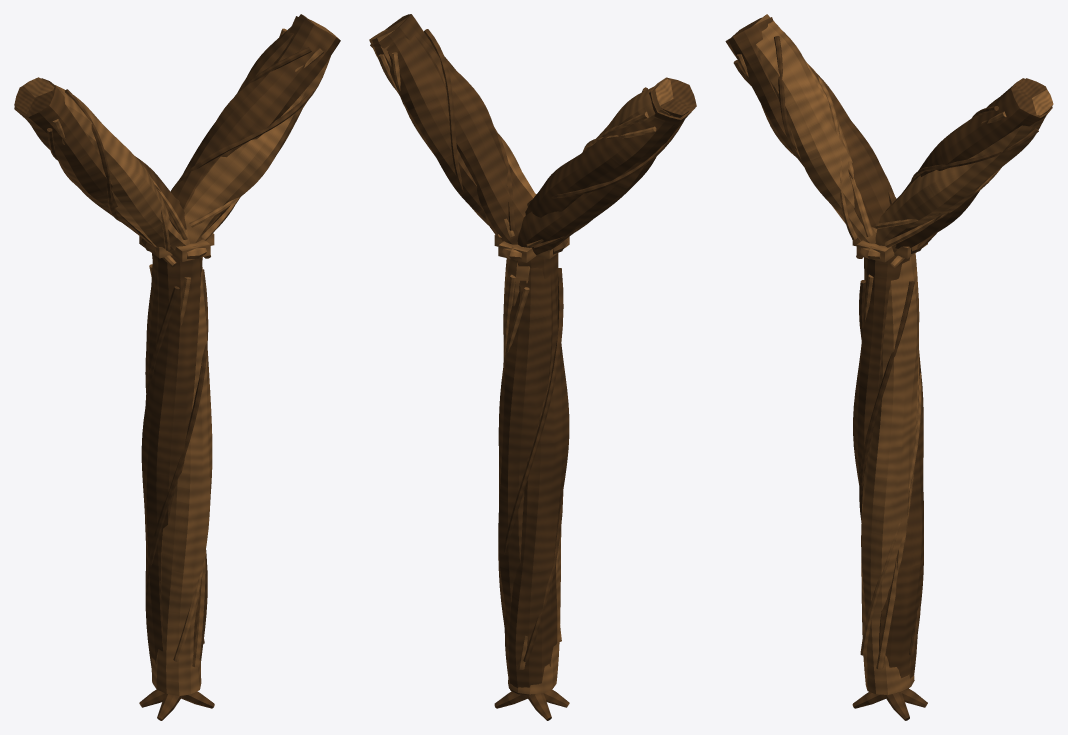
File: rootforged-worldroot-forked-column-8m.glb
3 views of the same model, side by side, from view 1: azimuth 30°, elevation 25°; view 2: azimuth 150°, elevation 25°; view 3: azimuth 330°, elevation 25° (orthographic).
Parts seen in each view (by area): view 1: trunk-root-0, trunk-root-1, arm-1-root-0, arm--1-root-1, arm-1-root-1, arm--1-root-0, trunk-ridge-0, trunk-root-2, arm--1-root-2, arm-1-root-2, arm-1-ridge-0, arm--1-ridge-0 (+3 smaller); view 2: trunk-root-0, trunk-root-2, arm-1-root-0, arm-1-root-2, arm--1-root-2, arm--1-root-0, trunk-root-1, trunk-ridge-2, arm--1-root-1, arm-1-ridge-2, arm-1-root-1, arm--1-ridge-2 (+1 smaller); view 3: trunk-root-1, arm--1-root-1, arm-1-root-1, trunk-root-2, trunk-root-0, arm-1-root-0, arm--1-root-2, arm--1-root-0, arm-1-root-2, trunk-ridge-0, trunk-vein-1, trunk-ridge-1 (+5 smaller).
Part boxes in pixels (x1,y1,x2,y2): trunk-root-0: [141, 253, 202, 667]; trunk-root-1: [151, 267, 212, 695]; arm-1-root-0: [171, 16, 340, 209]; arm--1-root-1: [23, 77, 189, 254]; arm-1-root-1: [184, 19, 338, 243]; arm--1-root-0: [14, 78, 153, 245]; trunk-ridge-0: [145, 269, 208, 598]; trunk-root-2: [145, 262, 207, 662]; arm--1-root-2: [14, 86, 186, 233]; arm-1-root-2: [205, 14, 314, 231]; arm-1-ridge-0: [170, 73, 324, 191]; arm--1-ridge-0: [65, 89, 120, 221]; trunk-root-0: [504, 253, 569, 695]; trunk-root-2: [498, 267, 552, 629]; arm-1-root-0: [370, 14, 533, 244]; arm-1-root-2: [376, 17, 488, 225]; arm--1-root-2: [525, 99, 692, 217]; arm--1-root-0: [517, 77, 696, 254]; trunk-root-1: [503, 258, 561, 694]; trunk-ridge-2: [500, 268, 563, 597]; arm--1-root-1: [596, 79, 675, 138]; arm-1-ridge-2: [424, 29, 463, 191]; arm-1-root-1: [369, 29, 535, 197]; arm--1-ridge-2: [527, 120, 684, 206]; trunk-root-1: [861, 253, 919, 694]; arm--1-root-1: [751, 14, 877, 243]; arm-1-root-1: [875, 89, 1053, 252]; trunk-root-2: [879, 356, 923, 693]; trunk-root-0: [853, 255, 917, 678]; arm-1-root-0: [885, 78, 1052, 211]; arm--1-root-2: [731, 17, 895, 228]; arm--1-root-0: [725, 17, 896, 198]; arm-1-root-2: [891, 78, 1046, 248]; trunk-ridge-0: [859, 281, 914, 522]; trunk-vein-1: [876, 347, 919, 669]; trunk-ridge-1: [860, 350, 921, 655].
Size of the model in its own units: 4 by 8 by 1.
Materials: 2 (2 with a texture image).
